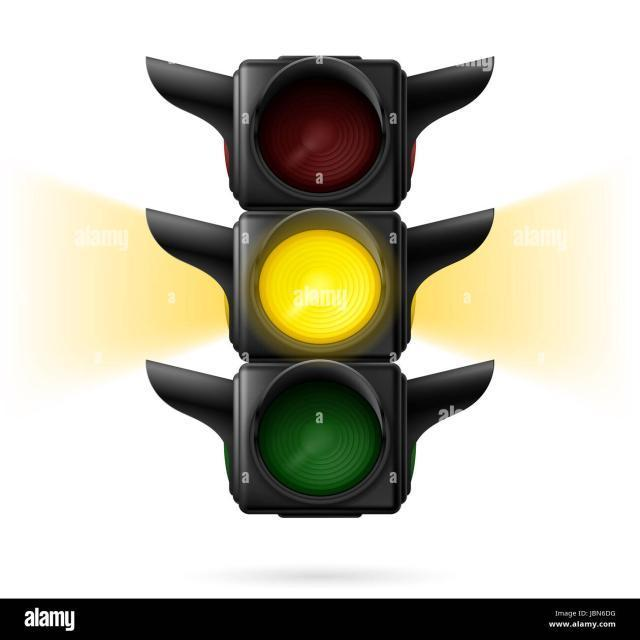yellow_light: (145, 55, 492, 516)
